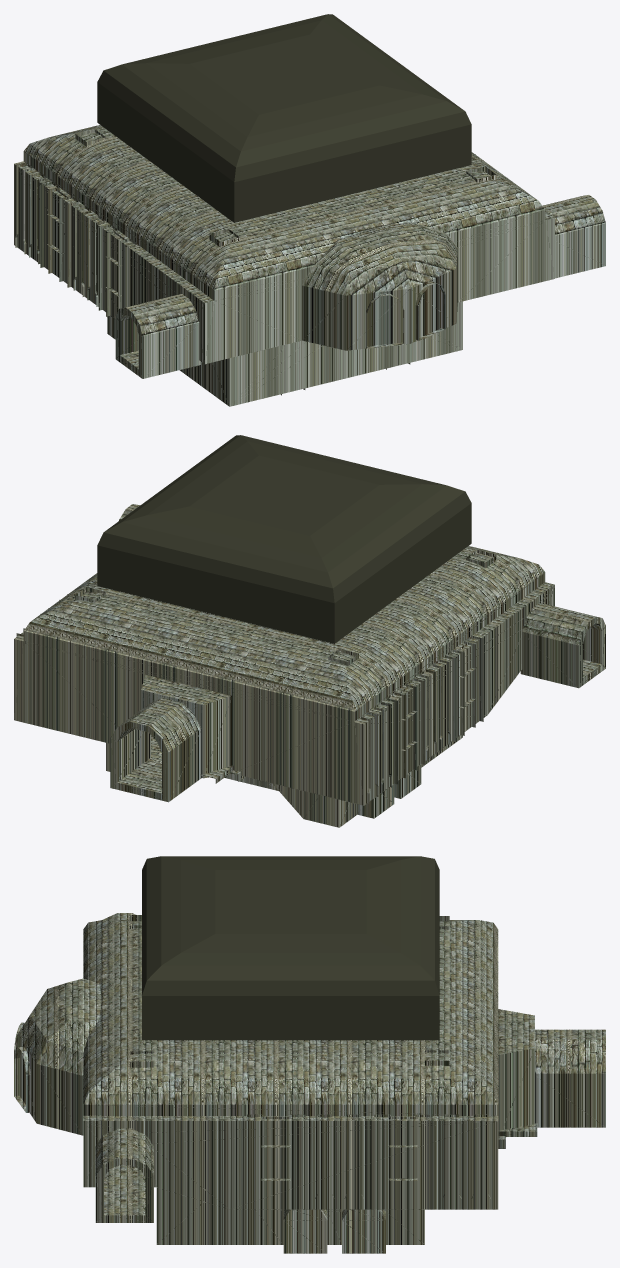
The picture shows the model from 3 angles, top to bottom: view 1: azimuth 30°, elevation 25°; view 2: azimuth 150°, elevation 25°; view 3: azimuth 270°, elevation 25°; orthographic projection. The views are drawn at different scales.
Parts seen in each view (by area): view 1: test3; view 2: test3; view 3: test3.
Boxes of the visible parts, left/top/right/bottom form: test3: left=14, top=14, right=605, bottom=406; test3: left=14, top=435, right=605, bottom=827; test3: left=14, top=856, right=605, bottom=1253.
Size of the model in its own units: 23.82 by 12.8 by 24.25.
1 material, 1 textured.
